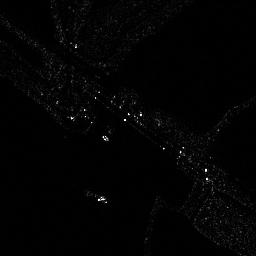ship: (85, 190, 109, 205)
